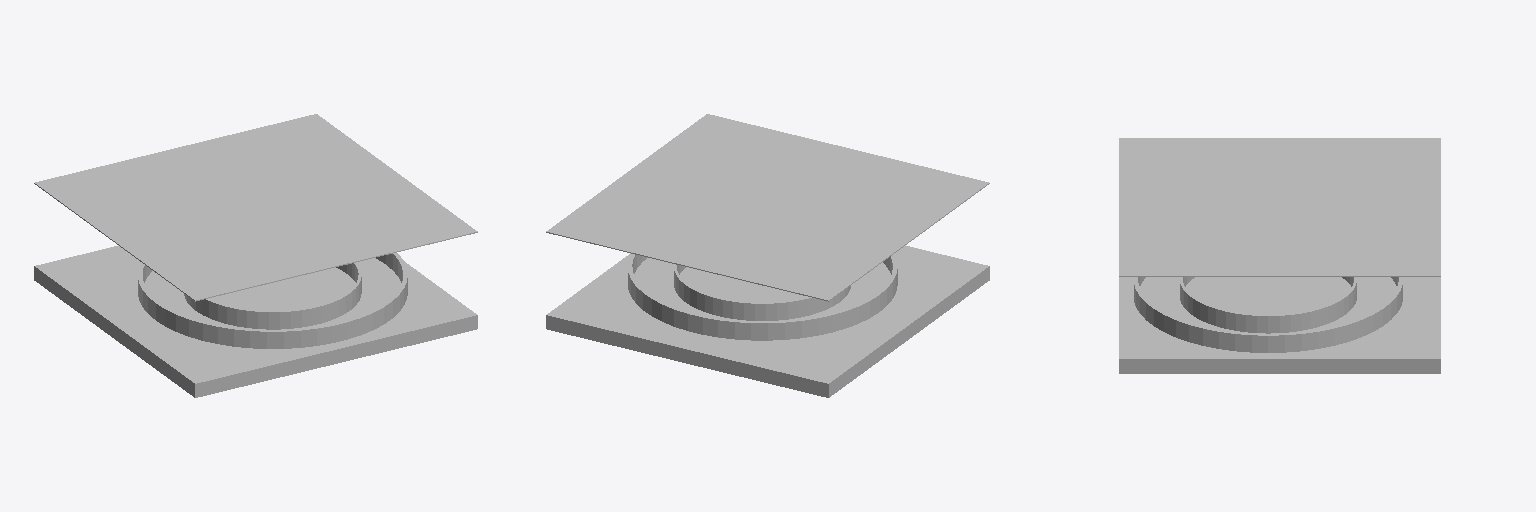
File: circulargallery.obj
The picture shows the model from 3 angles: view 1: azimuth 30°, elevation 25°; view 2: azimuth 150°, elevation 25°; view 3: azimuth 270°, elevation 25°; orthographic projection.
Parts seen in each view (by area): view 1: pCube2, pCube1, pPipe1, pPipe2; view 2: pCube2, pCube1, pPipe1, pPipe2; view 3: pCube2, pCube1, pPipe1, pPipe2.
Boxes of the visible parts, x1=… form: pCube2: x1=34, y1=114, x2=477, y2=301; pCube1: x1=34, y1=245, x2=477, y2=397; pPipe1: x1=138, y1=253, x2=407, y2=348; pPipe2: x1=184, y1=262, x2=361, y2=329; pCube2: x1=546, y1=114, x2=989, y2=301; pCube1: x1=546, y1=245, x2=989, y2=397; pPipe1: x1=628, y1=254, x2=897, y2=340; pPipe2: x1=674, y1=264, x2=850, y2=320; pCube2: x1=1119, y1=138, x2=1440, y2=276; pCube1: x1=1119, y1=277, x2=1440, y2=373; pPipe1: x1=1134, y1=277, x2=1402, y2=352; pPipe2: x1=1180, y1=277, x2=1356, y2=333.
Size of the model in its own units: 34.11 by 11.27 by 33.7.